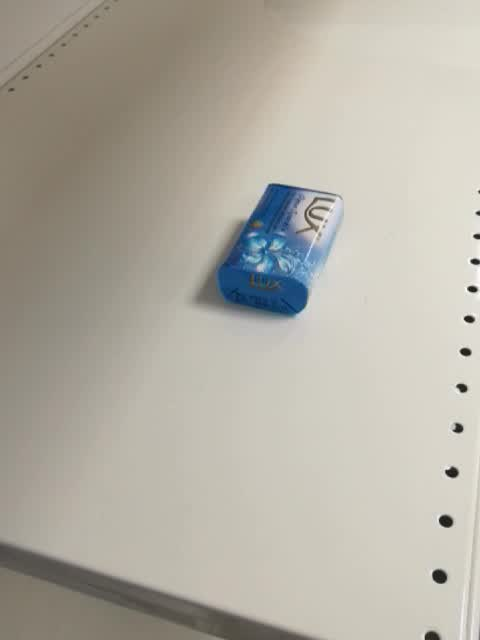soap: (217, 182, 345, 316)
